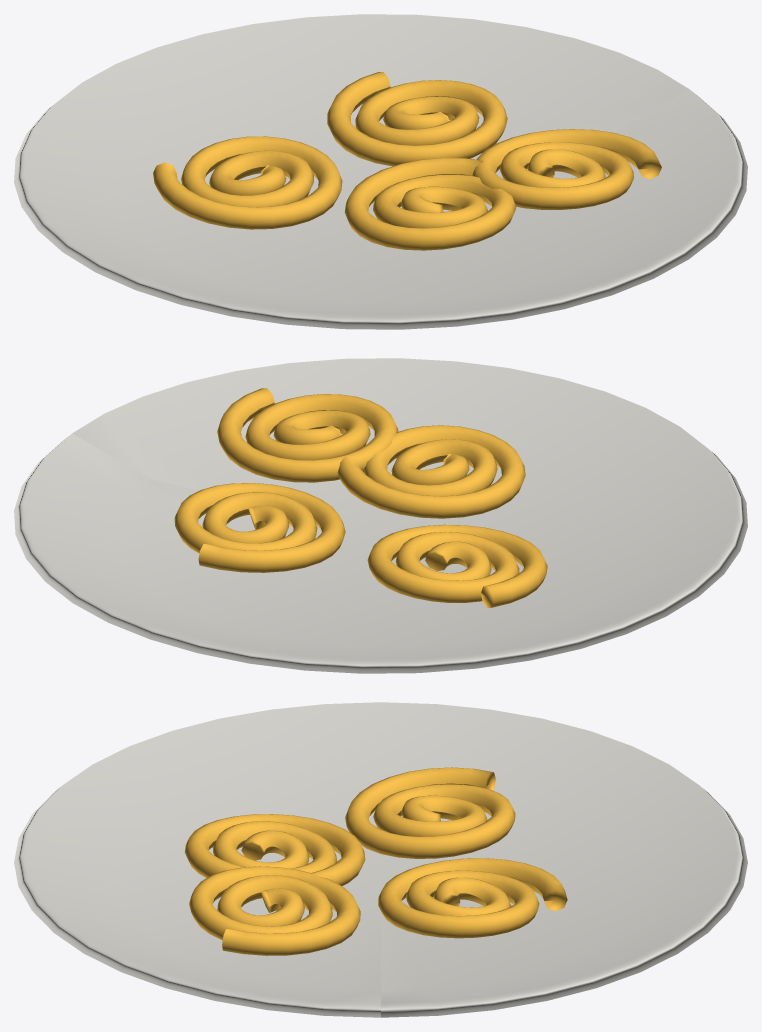
The model's file is jalebi.glb.
The picture shows the model from 3 angles, top to bottom: view 1: azimuth 30°, elevation 25°; view 2: azimuth 150°, elevation 25°; view 3: azimuth 270°, elevation 25°; orthographic projection.
Visible parts, largest first — view 1: jalebi; view 2: jalebi; view 3: jalebi.
Part boxes in pixels (x1=…): jalebi: x1=14, y1=14, x2=747, y2=329; jalebi: x1=14, y1=358, x2=747, y2=673; jalebi: x1=14, y1=702, x2=747, y2=1017.
Size of the model in its own units: 0.26 by 0.0237 by 0.26.
